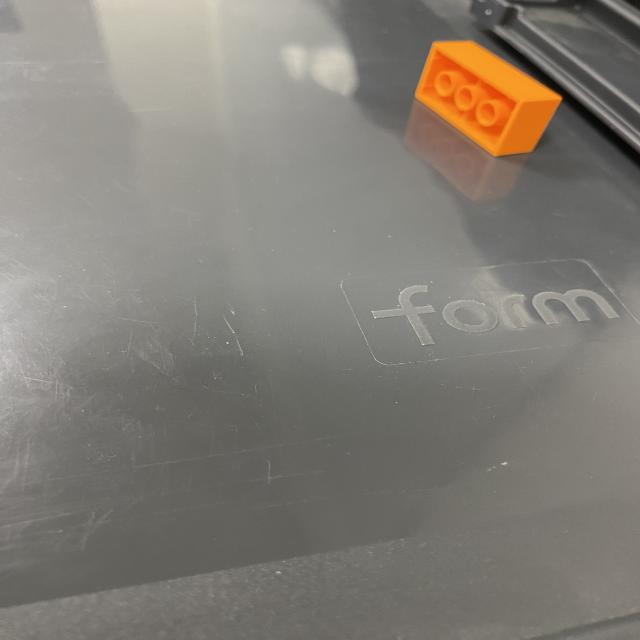C4x2x1: (415, 39, 563, 158), (496, 98, 564, 158)
